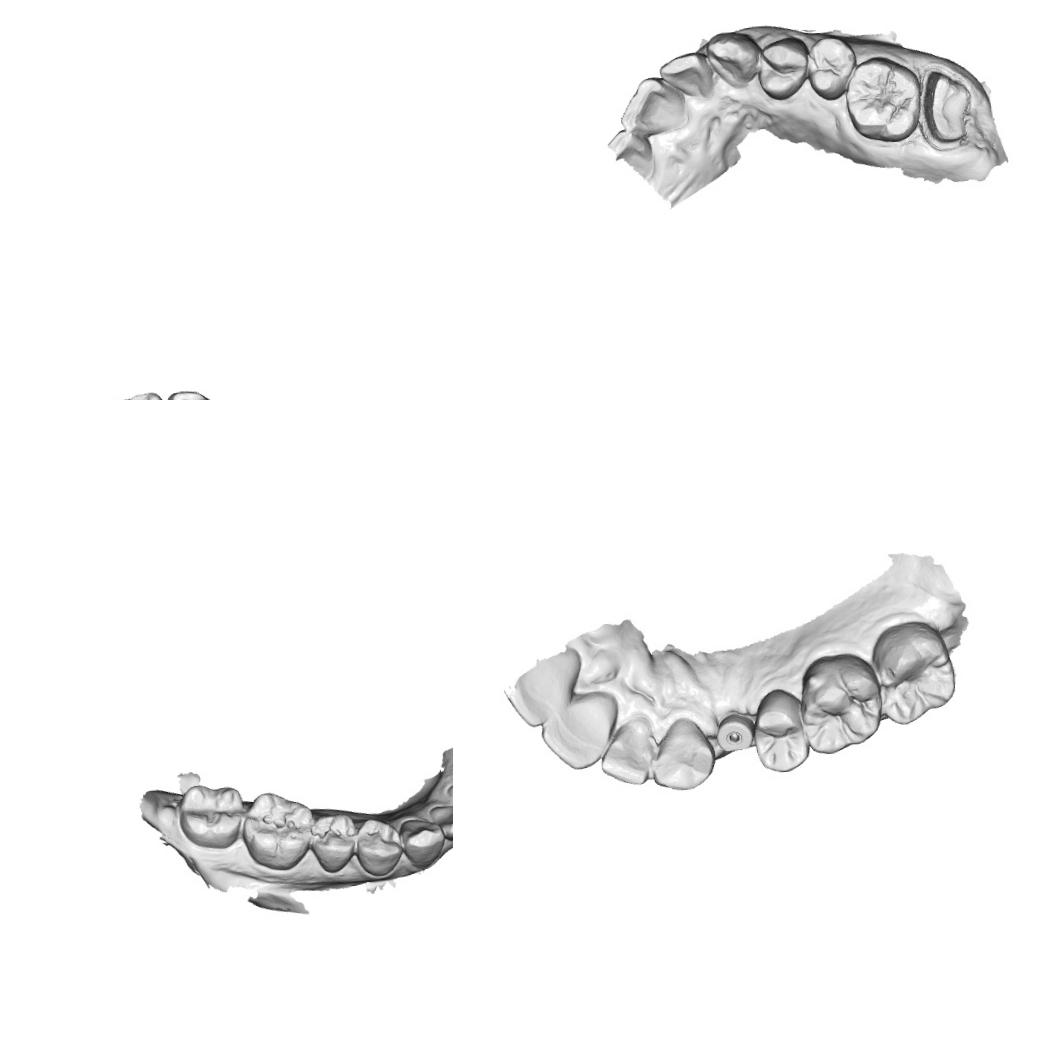canine: (646, 712, 718, 794), (702, 28, 762, 94), (396, 815, 446, 871)
implant: (713, 708, 759, 755)
incisor: (500, 648, 586, 728), (536, 694, 617, 772), (613, 72, 690, 140), (594, 712, 656, 787), (653, 47, 715, 104), (426, 800, 453, 842)
molar: (866, 616, 960, 728), (794, 648, 886, 758), (840, 52, 924, 147), (238, 788, 318, 874), (176, 780, 247, 850)
premolar: (748, 684, 810, 775), (800, 30, 858, 104), (754, 31, 812, 103), (352, 814, 403, 878), (308, 810, 358, 874)
